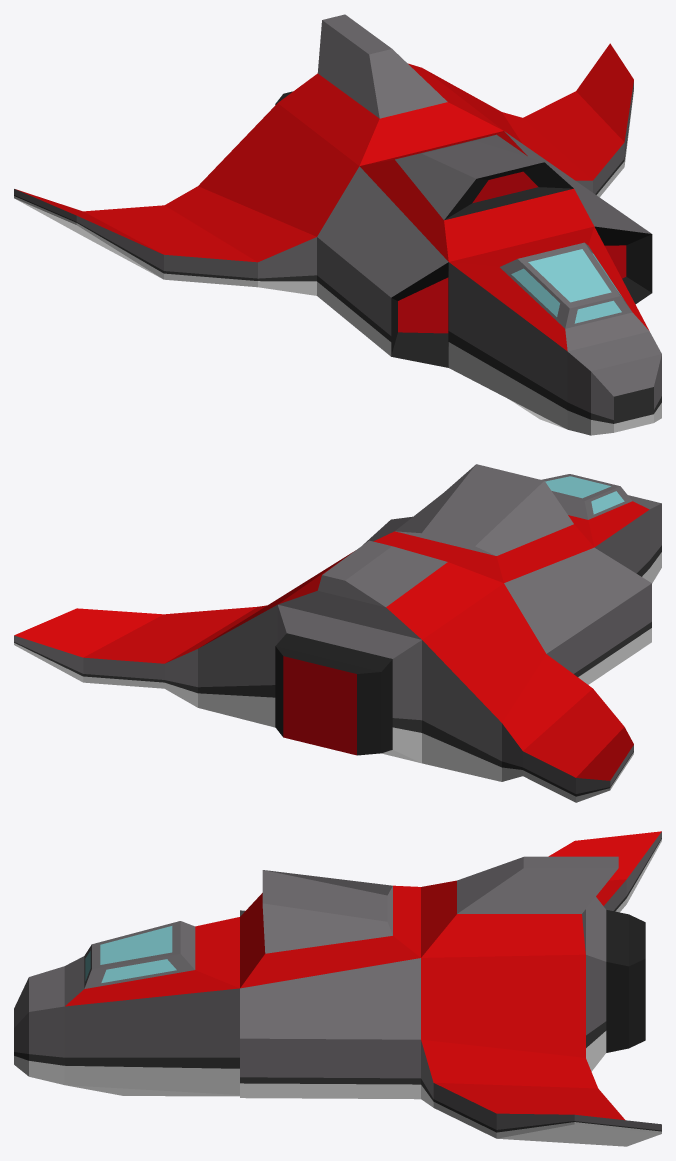
File: shipNew.fbx
3 renders of one model, top to bottom at view 1: azimuth 30°, elevation 25°; view 2: azimuth 150°, elevation 25°; view 3: azimuth 270°, elevation 25°, orthographic.
Parts seen in each view (by area): view 1: Cube; view 2: Cube; view 3: Cube.
Boxes of the visible parts, x1,y1,x2,y2 form: Cube: (14, 14, 661, 435); Cube: (14, 464, 661, 802); Cube: (14, 831, 661, 1146).
Size of the model in its own units: 647 by 220 by 604.
